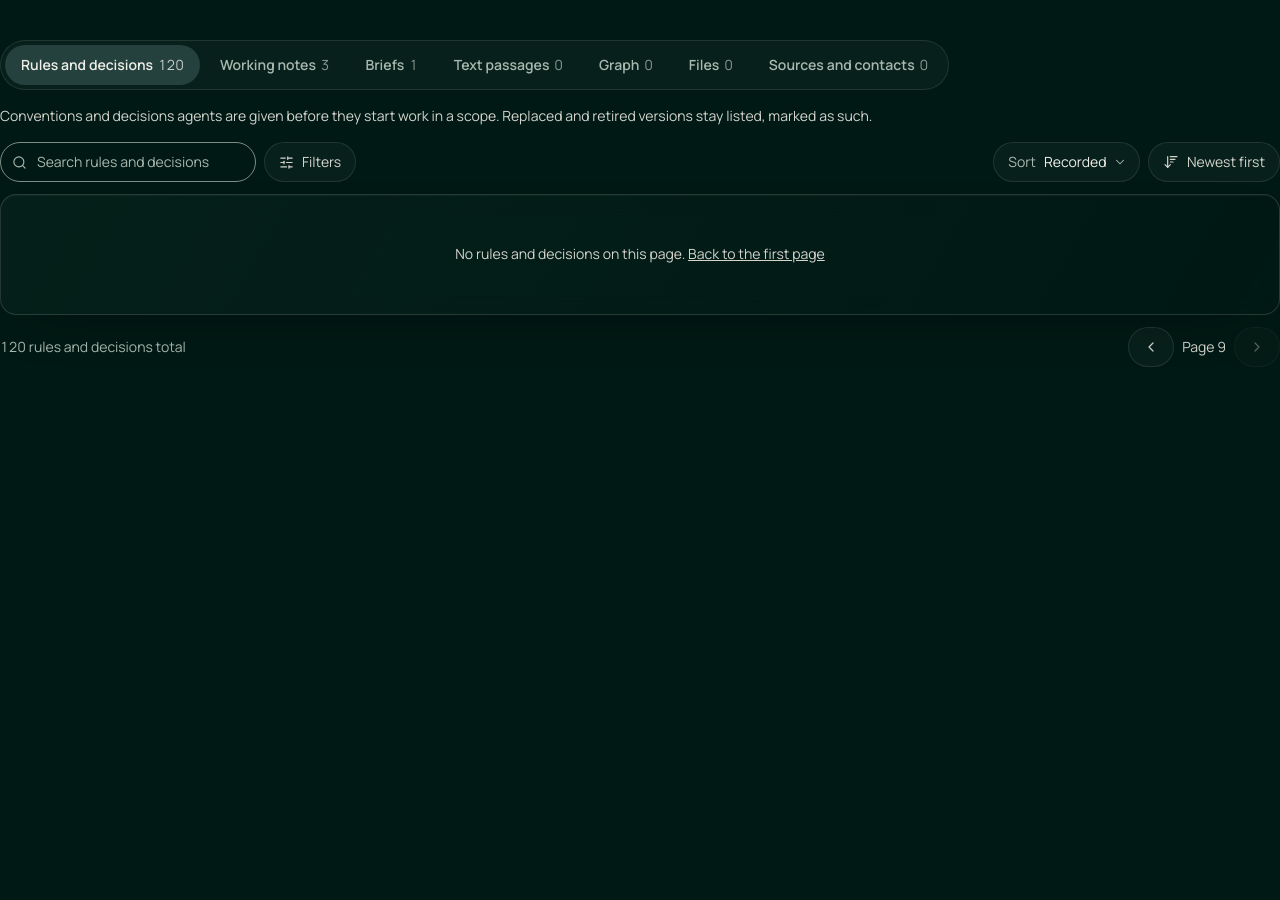
Test: Explore pages in the URL › offers the first page when a link names a page past the end
expect the text "No rules and decisions on this page. Back to the first page" is shown: met, box top-left (455, 243), bottom-right (825, 266)
Click the button "Back to the first page" at {"x": 756, "y": 254}, box top-left (688, 243), bottom-right (825, 266)
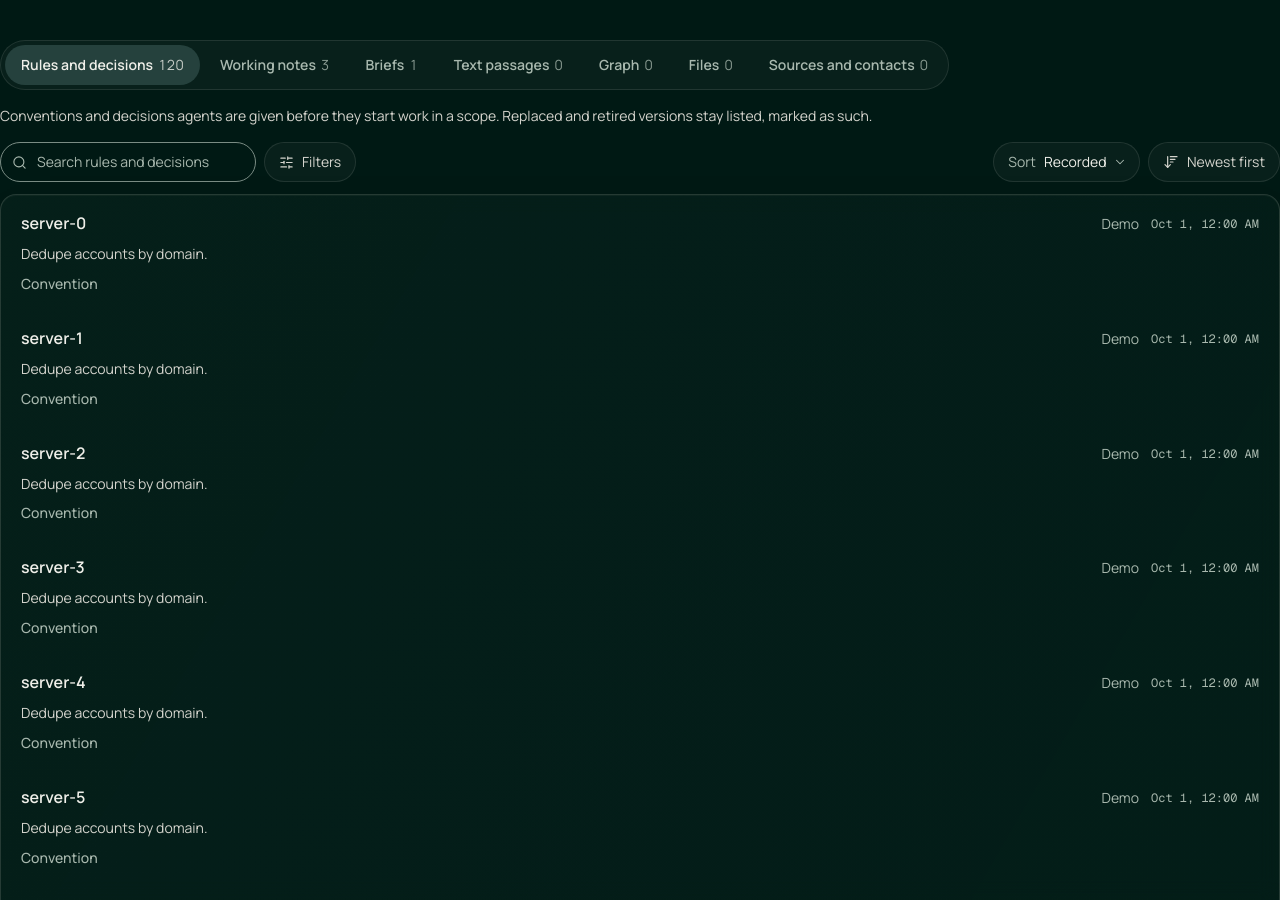
expect the text "server-0" is shown: met, box top-left (21, 211), bottom-right (86, 235)
